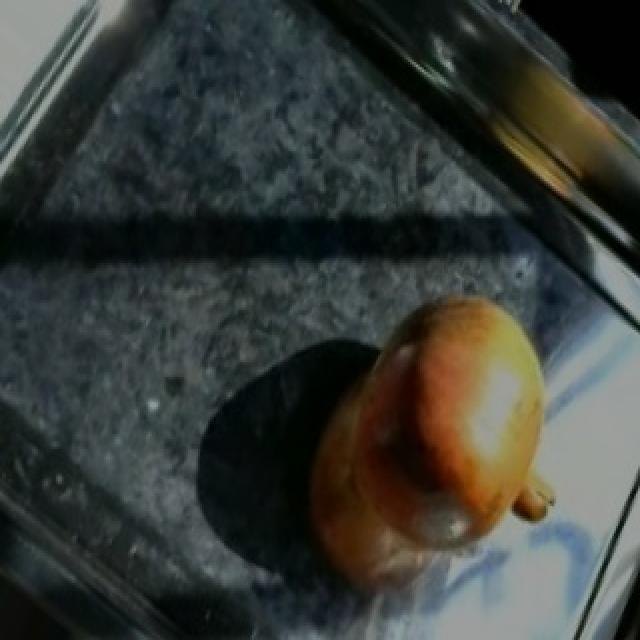fruit: (306, 260, 592, 570)
